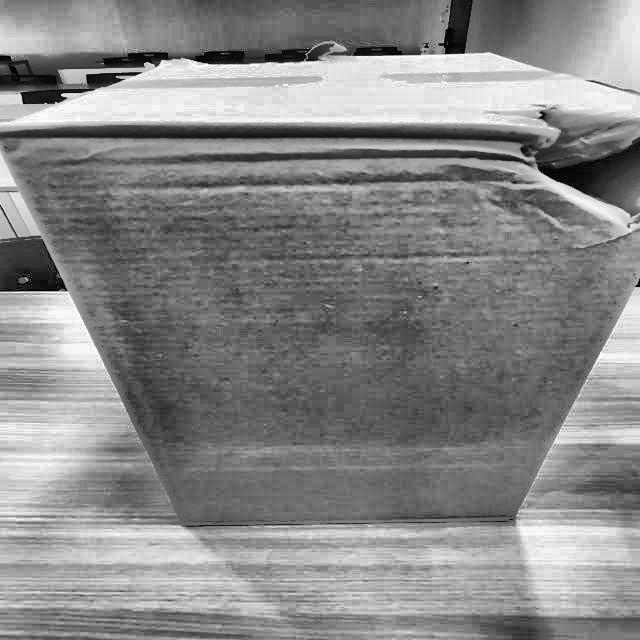box: (0, 45, 639, 537)
hole: (516, 103, 640, 238)
